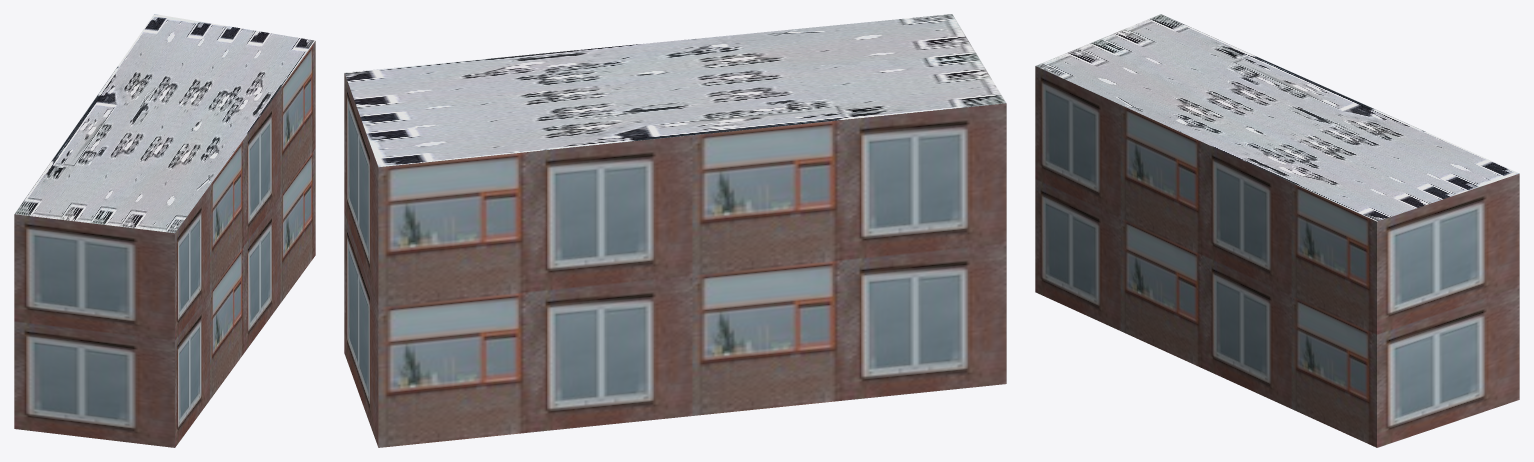
File: ResTex__4804.fbx
3 renders of one model, left to right at view 1: azimuth 30°, elevation 25°; view 2: azimuth 150°, elevation 25°; view 3: azimuth 270°, elevation 25°, orthographic. The views are drawn at different scales.
Parts seen in each view (by area): view 1: CityEngineMaterial_19_m, CityEngineMaterial_15_m; view 2: CityEngineMaterial_19_m, CityEngineMaterial_15_m; view 3: CityEngineMaterial_19_m, CityEngineMaterial_15_m.
Boxes of the visible parts, left/top/right/bottom form: CityEngineMaterial_19_m: left=14, top=41, right=315, bottom=447; CityEngineMaterial_15_m: left=14, top=14, right=315, bottom=233; CityEngineMaterial_19_m: left=344, top=73, right=1006, bottom=447; CityEngineMaterial_15_m: left=344, top=14, right=1005, bottom=167; CityEngineMaterial_19_m: left=1035, top=66, right=1519, bottom=447; CityEngineMaterial_15_m: left=1036, top=14, right=1519, bottom=221.
Size of the model in its own units: 11.81 by 6 by 11.64.
Materials: 2 (2 with a texture image).
